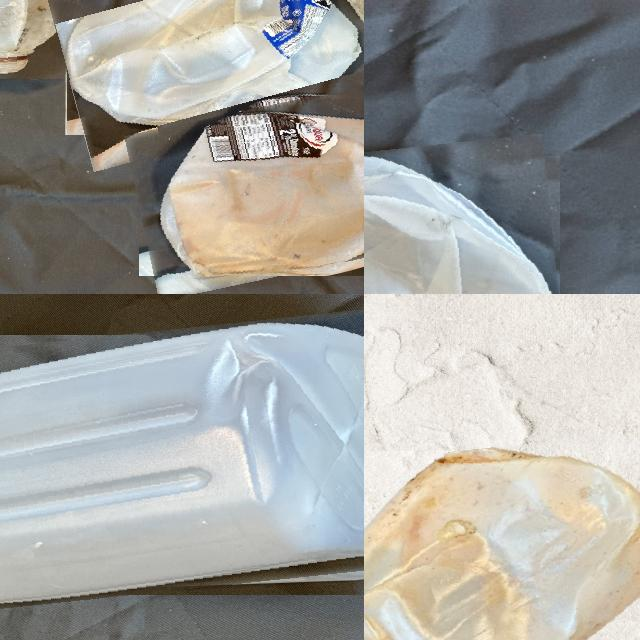milk-jug: (0, 320, 364, 608), (364, 439, 640, 640), (56, 0, 364, 152), (131, 93, 364, 287), (364, 143, 567, 294)
